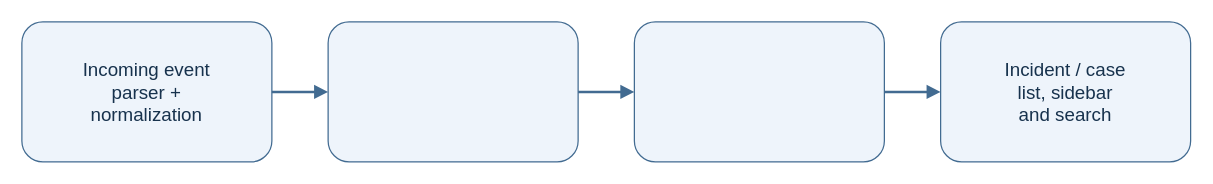
Image size: 1213x184. Some labels were removed from this diagram. Each missing label, with the centre of its shape:
"Correlation rule condition + action" goes at (452,91).
"Tag association system or user-defined" goes at (758,91).
